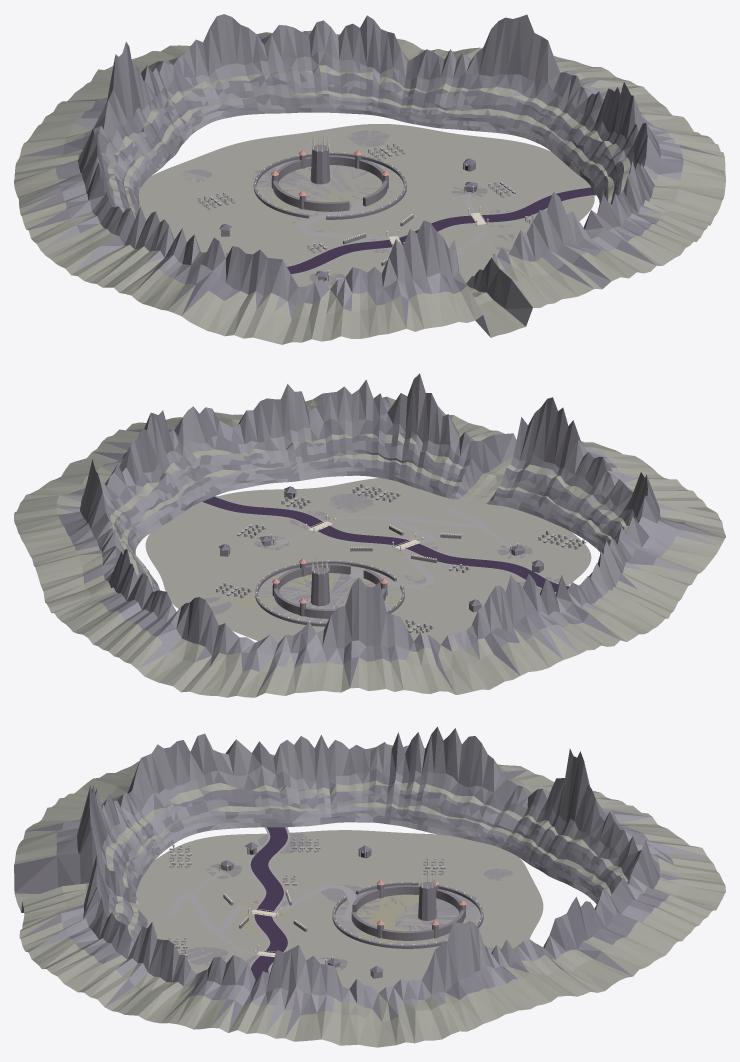
The model's file is map_fort_bones.glb.
3 renders of one model, top to bottom at view 1: azimuth 30°, elevation 25°; view 2: azimuth 150°, elevation 25°; view 3: azimuth 270°, elevation 25°, orthographic. The views are drawn at different scales.
Parts seen in each view (by area): view 1: Z_fort_bones_penhascos, Z_fort_bones_chao_encosta, Z_fort_bones_agua_rio_1, Z_fort_bones_chao_patamar, Z_fort_bones_margem_rio_1, Z_fort_bones_estrada_subida, Z_fort_bones_torre, Z_fort_bones_chao_cinza_1; view 2: Z_fort_bones_penhascos, Z_fort_bones_chao_encosta, Z_fort_bones_agua_rio_1, Z_fort_bones_estrada_subida, Z_fort_bones_chao_patamar, Z_fort_bones_margem_rio_1, Z_fort_bones_torre, Z_fort_bones_chao_patio, Z_fort_bones_chao_cinza_13; view 3: Z_fort_bones_penhascos, Z_fort_bones_chao_encosta, Z_fort_bones_agua_rio_1, Z_fort_bones_estrada_subida, Z_fort_bones_chao_patamar, Z_fort_bones_margem_rio_1, Z_fort_bones_torre, Z_fort_bones_chao_patio, Z_fort_bones_chao_morta_0, Z_fort_bones_chao_cinza_13.
Boxes of the visible parts, x1,y1,x2,y2 form: Z_fort_bones_penhascos: [14, 14, 725, 344]; Z_fort_bones_chao_encosta: [138, 124, 594, 288]; Z_fort_bones_agua_rio_1: [287, 187, 595, 274]; Z_fort_bones_chao_patamar: [252, 163, 401, 217]; Z_fort_bones_margem_rio_1: [286, 186, 596, 275]; Z_fort_bones_estrada_subida: [298, 207, 462, 254]; Z_fort_bones_torre: [310, 144, 330, 184]; Z_fort_bones_chao_cinza_1: [348, 130, 389, 146]; Z_fort_bones_penhascos: [14, 373, 725, 697]; Z_fort_bones_chao_encosta: [145, 478, 591, 644]; Z_fort_bones_agua_rio_1: [202, 496, 568, 591]; Z_fort_bones_estrada_subida: [357, 507, 487, 588]; Z_fort_bones_chao_patamar: [258, 569, 400, 622]; Z_fort_bones_margem_rio_1: [200, 496, 569, 593]; Z_fort_bones_torre: [310, 567, 329, 606]; Z_fort_bones_chao_patio: [279, 573, 372, 609]; Z_fort_bones_chao_cinza_13: [329, 494, 373, 512]; Z_fort_bones_penhascos: [14, 726, 725, 1047]; Z_fort_bones_chao_encosta: [136, 830, 543, 992]; Z_fort_bones_agua_rio_1: [250, 827, 287, 979]; Z_fort_bones_estrada_subida: [166, 884, 356, 933]; Z_fort_bones_chao_patamar: [335, 890, 478, 949]; Z_fort_bones_margem_rio_1: [248, 827, 290, 973]; Z_fort_bones_torre: [418, 881, 436, 920]; Z_fort_bones_chao_patio: [356, 895, 458, 931]; Z_fort_bones_chao_morta_0: [357, 901, 405, 921]; Z_fort_bones_chao_cinza_13: [184, 947, 227, 965].
Size of the model in its own units: 361 by 61.84 by 365.
